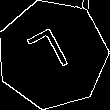L_SE: (27, 25, 79, 84)
